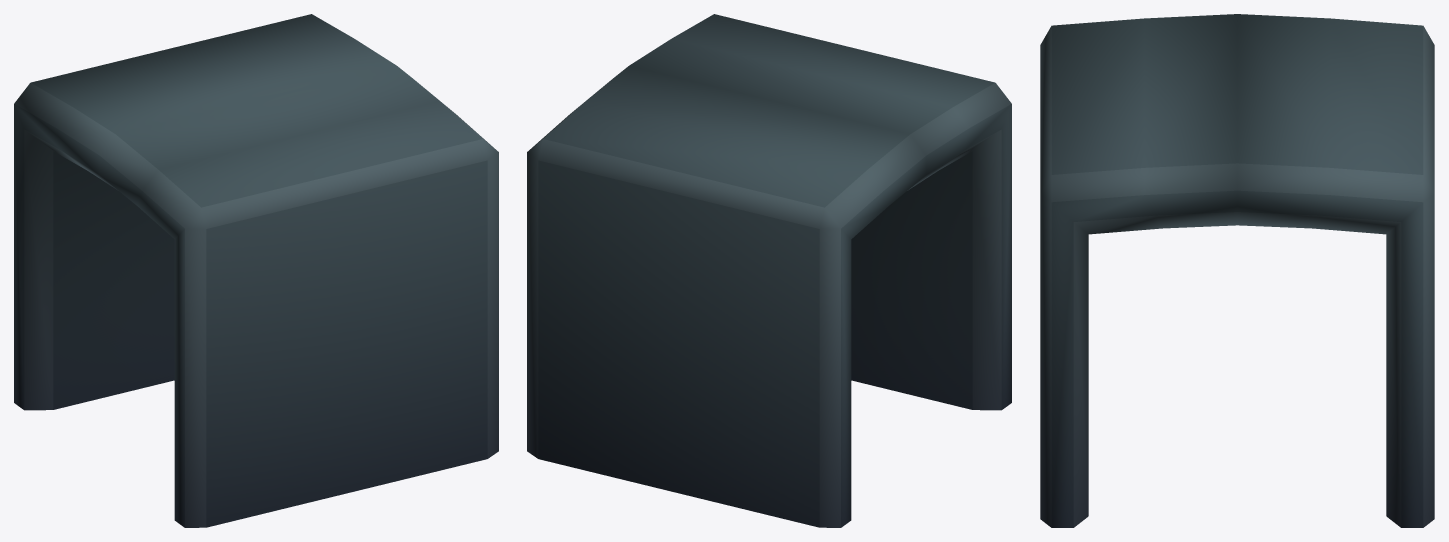
Rendered from table.fbx.
The picture shows the model from 3 angles, left to right: view 1: azimuth 30°, elevation 25°; view 2: azimuth 150°, elevation 25°; view 3: azimuth 270°, elevation 25°; orthographic projection. The views are drawn at different scales.
Parts seen in each view (by area): view 1: Cube.025; view 2: Cube.025; view 3: Cube.025.
Part boxes in pixels (bbox=[...]): Cube.025: bbox=[14, 14, 498, 527]; Cube.025: bbox=[527, 14, 1011, 527]; Cube.025: bbox=[1040, 14, 1434, 527].
Bounding box in the file's own units: 199 × 198 × 199.
